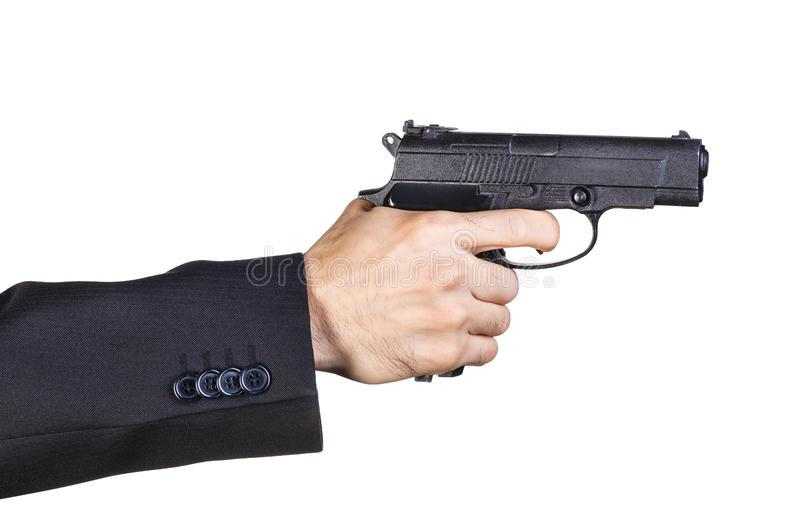weapon: (353, 114, 714, 387)
